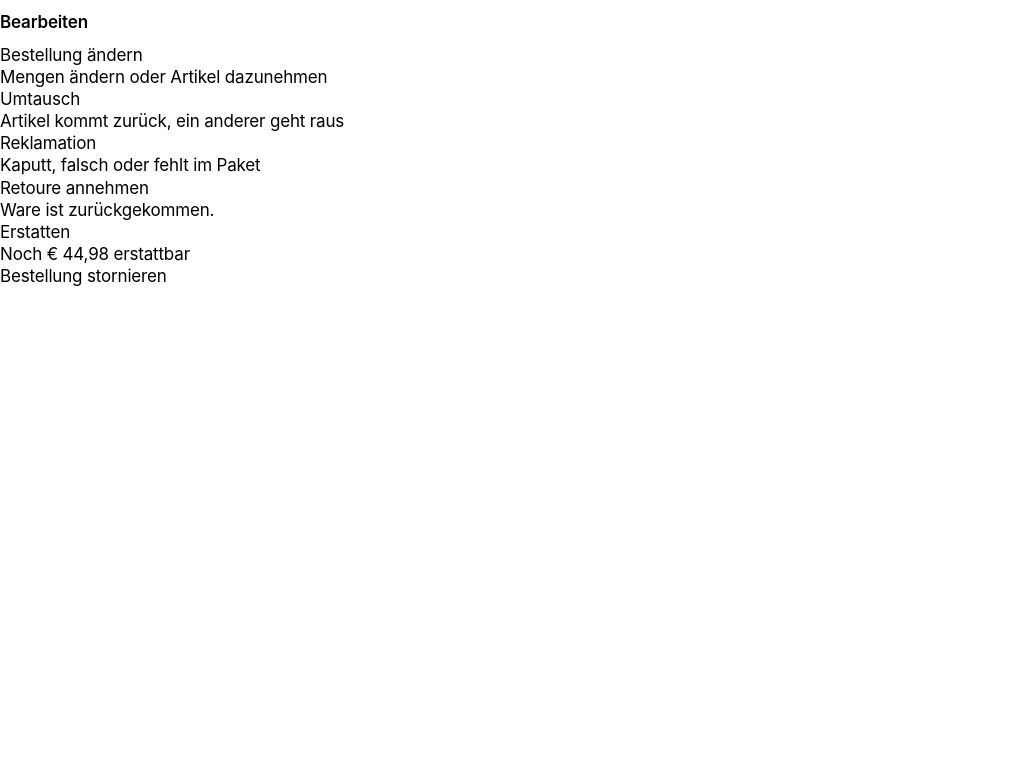
refund › a double tap on the red button sends one request, and a retry keeps the idempotency key
The image size is (1024, 768).
Later steps or results of the test are not shown.
Click the button "Erstatten Noch € 44,98 erstattbar": (35, 232) [0,221,1023,265]
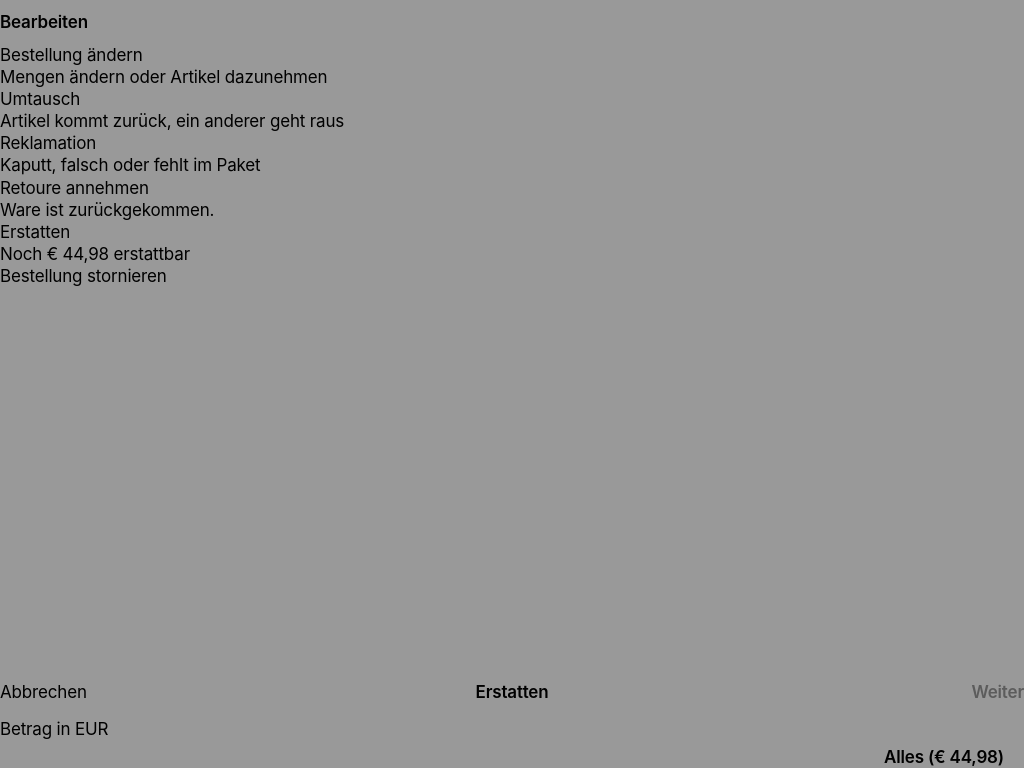
In the field labelled "Betrag in EUR": (512, 757) [0,746,1023,767], type "5"
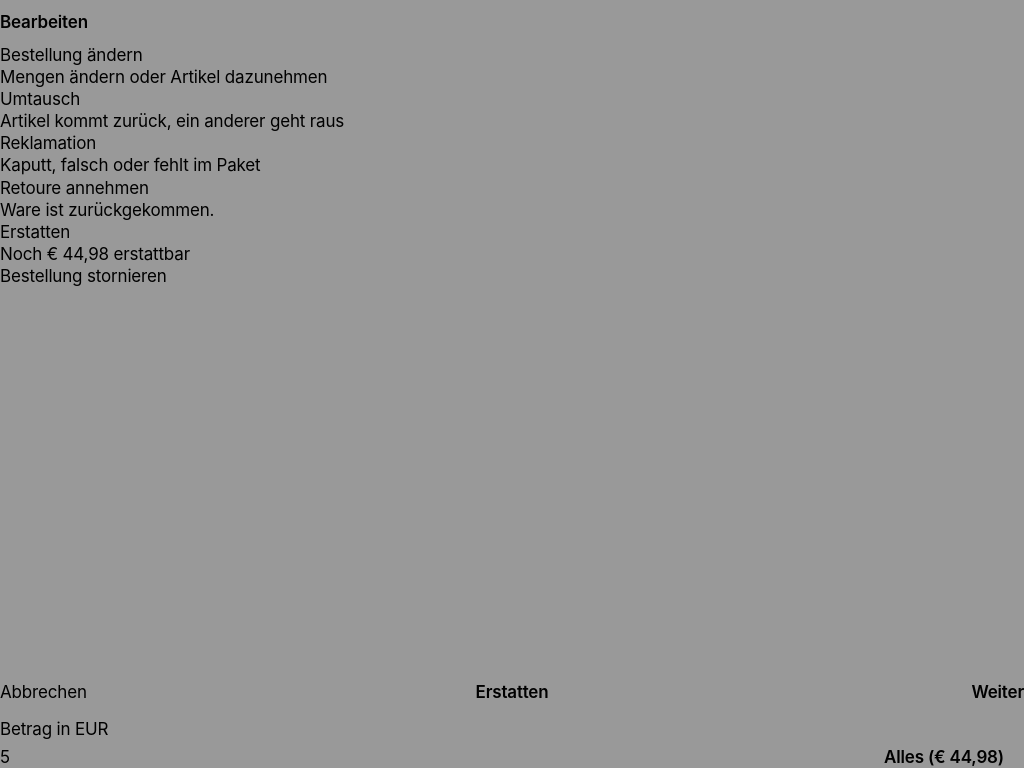
Click the button "Weiter": (998, 692) [971,670,1023,714]
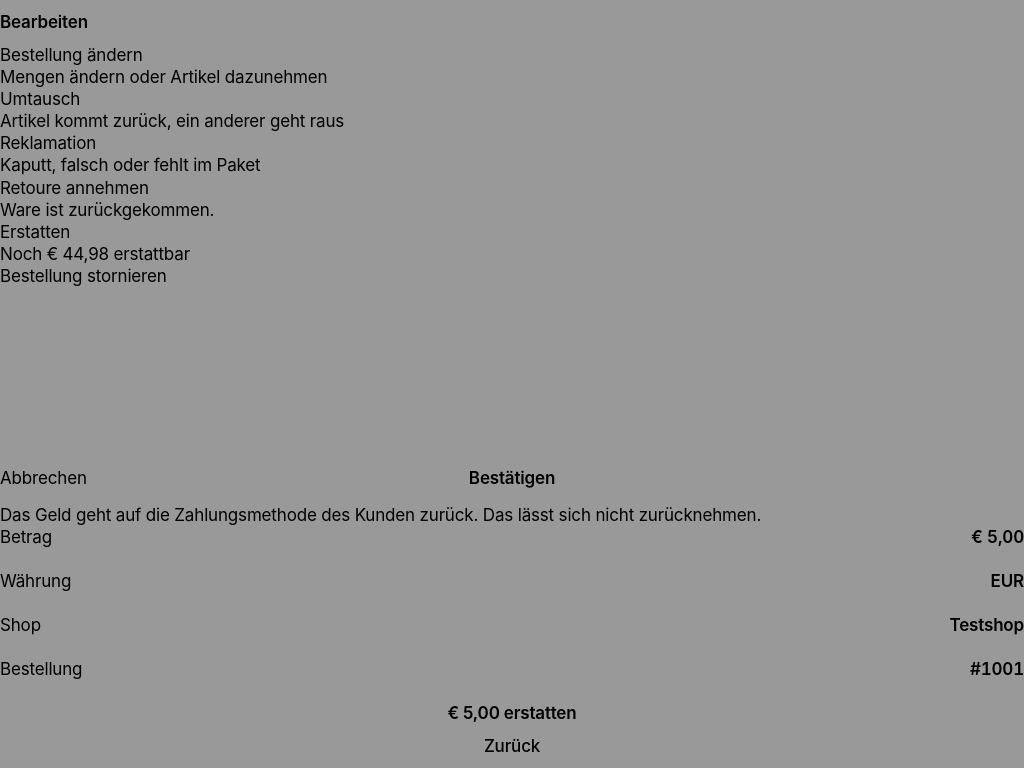
Click the button "€ 5,00 erstatten": (512, 713) [0,702,1023,724]
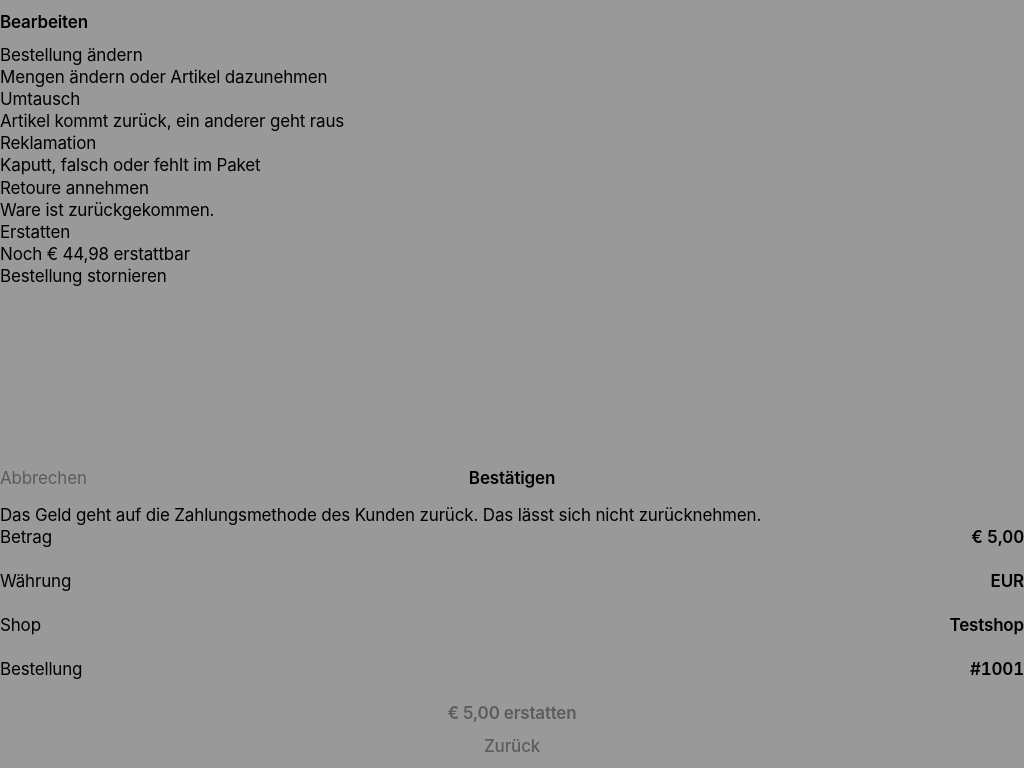
Click the button "€ 5,00 erstatten": (512, 713) [0,702,1023,724]
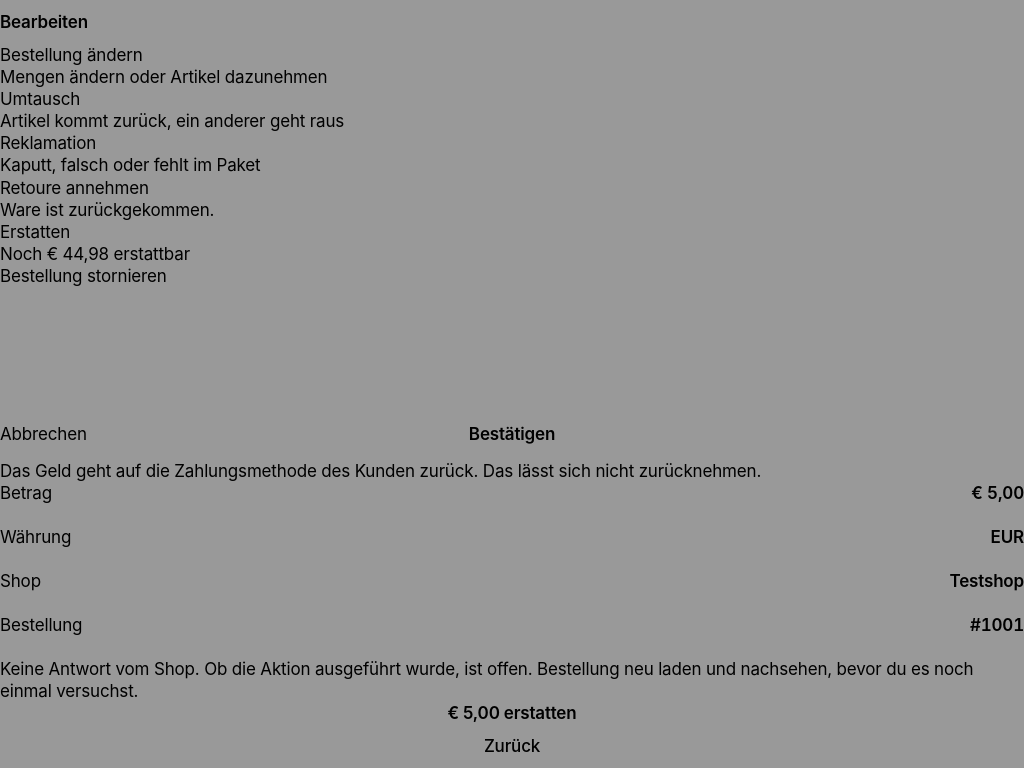
Expected: the text "Keine Antwort" is shown, [0,659,973,701]
